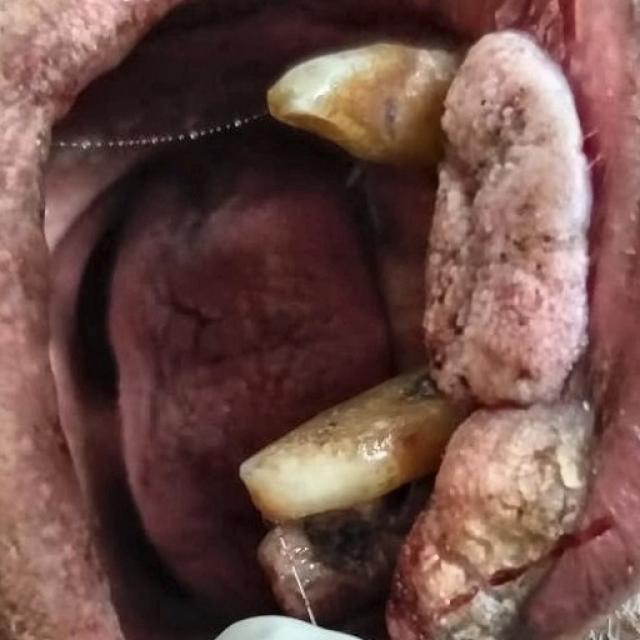cancer-detection: (388, 21, 599, 639)
processing_area: (378, 0, 639, 639)
